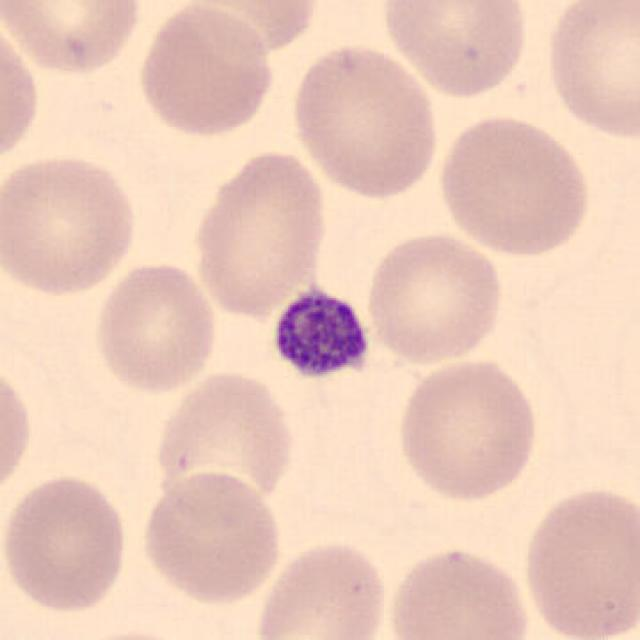Platelets: (267, 282, 375, 386)
RBC: (286, 41, 443, 202), (188, 145, 332, 319), (432, 111, 596, 259), (393, 354, 542, 504), (0, 148, 142, 300), (149, 365, 299, 506), (137, 467, 286, 607), (361, 227, 507, 367), (134, 0, 278, 141), (518, 481, 638, 640), (0, 471, 132, 615), (89, 259, 220, 397), (376, 0, 533, 100), (382, 543, 535, 640), (253, 536, 391, 640), (540, 0, 638, 143), (0, 0, 146, 78), (169, 0, 323, 55), (0, 14, 44, 172), (0, 356, 36, 508), (55, 626, 213, 640)
